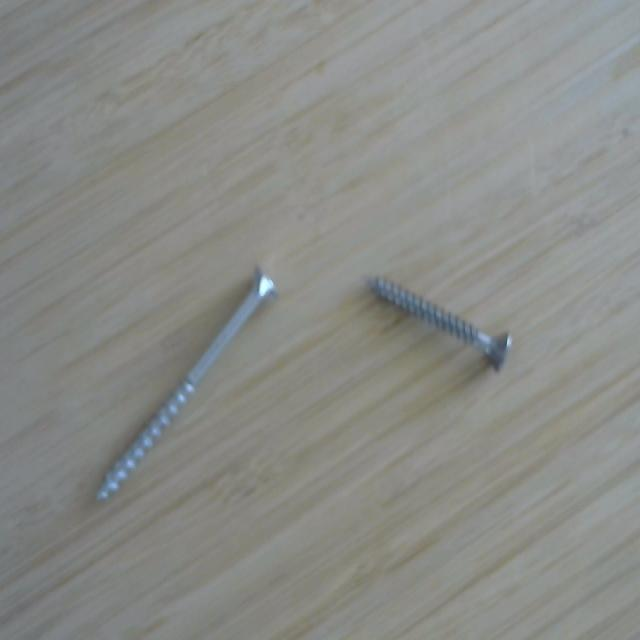Black screw: (353, 262, 520, 384)
Long screw: (86, 259, 291, 517)
